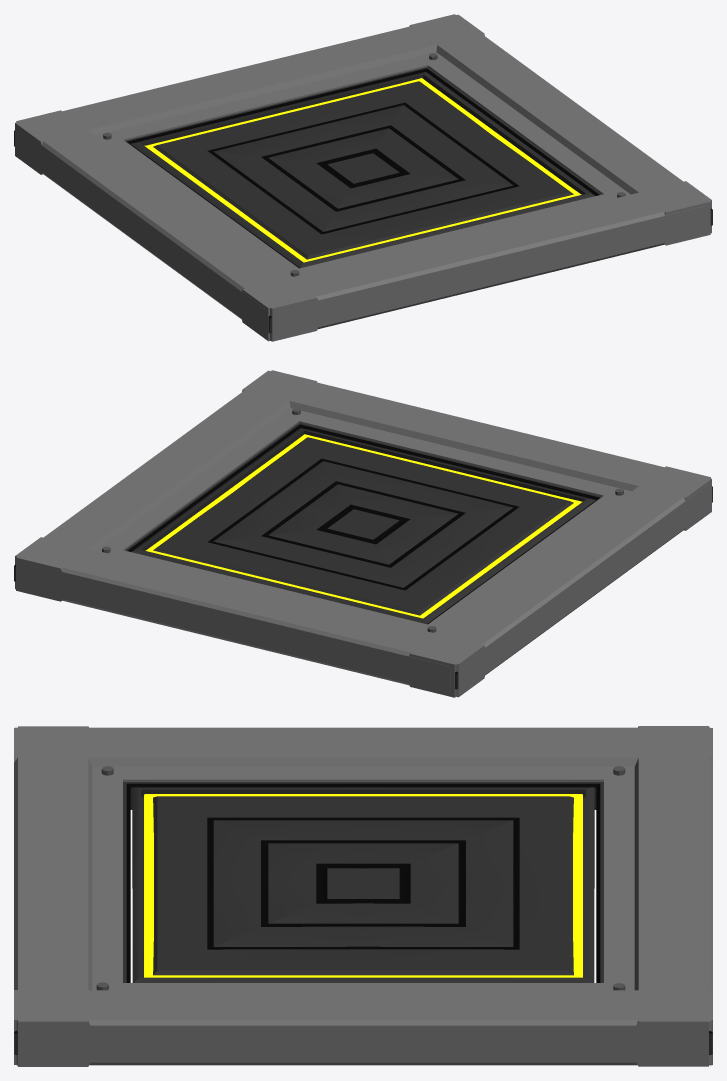
The model's file is PlatformSegmentMid.fbx.
3 renders of one model, top to bottom at view 1: azimuth 30°, elevation 25°; view 2: azimuth 150°, elevation 25°; view 3: azimuth 270°, elevation 25°, orthographic. The views are drawn at different scales.
Parts seen in each view (by area): view 1: HangerPlatformSegment, Trim3, Trim2, Trim1, Trim4, Corner4, PlatformEmissive, Corner3, Corner1, Corner2, Edge1, Edge4; view 2: HangerPlatformSegment, Trim1, Trim2, Trim4, Trim3, PlatformEmissive, Corner3, Corner2, Corner4, Edge3, Corner1, Edge4; view 3: HangerPlatformSegment, Trim4, Trim2, Trim3, Trim1, Corner1, PlatformEmissive, Corner2, Corner3, Edge2, Corner4, Edge1 (+1 smaller).
Boxes of the visible parts, x1,y1,x2,y2 form: HangerPlatformSegment: [131, 72, 595, 267]; Trim3: [248, 181, 711, 335]; Trim2: [20, 113, 316, 341]; Trim1: [16, 20, 448, 143]; Trim4: [410, 14, 682, 197]; Corner4: [242, 268, 338, 341]; PlatformEmissive: [144, 78, 581, 262]; Corner3: [15, 110, 122, 178]; Corner1: [604, 181, 711, 245]; Corner2: [409, 14, 484, 64]; Edge1: [125, 67, 427, 143]; Edge4: [426, 67, 595, 195]; HangerPlatformSegment: [131, 428, 595, 623]; Trim1: [25, 538, 483, 696]; Trim2: [415, 466, 710, 689]; Trim4: [16, 376, 312, 568]; Trim3: [243, 371, 664, 496]; PlatformEmissive: [145, 434, 582, 618]; Corner3: [409, 624, 497, 697]; Corner2: [15, 537, 122, 601]; Corner4: [604, 466, 711, 530]; Edge3: [299, 423, 601, 500]; Corner1: [242, 370, 316, 420]; Edge4: [130, 423, 300, 551]; HangerPlatformSegment: [132, 787, 594, 982]; Trim4: [29, 983, 712, 1065]; Trim2: [14, 727, 703, 809]; Trim3: [14, 730, 122, 1065]; Trim1: [604, 726, 712, 1015]; Corner1: [14, 982, 123, 1066]; PlatformEmissive: [144, 794, 582, 977]; Corner2: [603, 984, 712, 1066]; Corner3: [603, 726, 712, 781]; Edge2: [125, 782, 599, 809]; Corner4: [14, 726, 123, 781]; Edge1: [596, 783, 712, 1032].
Size of the model in its own units: 9 by 0.6437 by 9.
